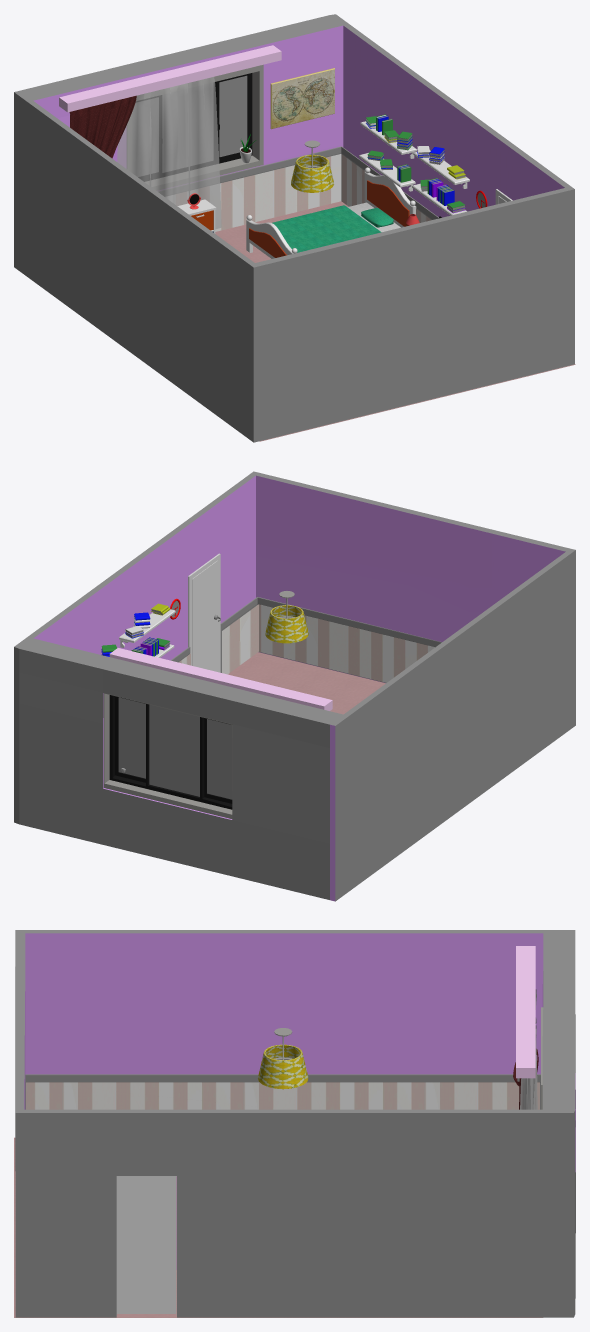
Rendered from Kiz_Odasi_Textured.fbx.
3 views of the same model, one above another, from view 1: azimuth 30°, elevation 25°; view 2: azimuth 150°, elevation 25°; view 3: azimuth 270°, elevation 25° (orthographic). The views are drawn at different scales.
Visible parts, largest first — view 1: Duvar, Plane001, Pencere, Plane002, Kornis, Pencere_Kenar, Tablo, Yatak, Yorgan, PERDE, Duvar_Bordur, Hali (+2 smaller); view 2: Duvar, Pencere, Plane002, Hali, KApi, Kornis, Pencere_Kenar, Duvar_Bordur, Avize; view 3: Duvar, Plane002, KApi, Duvar_Bordur, Kornis, Avize, Hali, Plane001.
Boxes of the visible parts, box(x1,y1,x2,y2) form: Duvar: box(14, 14, 574, 442); Plane001: box(117, 77, 221, 229); Pencere: box(132, 73, 252, 181); Plane002: box(165, 154, 431, 231); Kornis: box(59, 45, 281, 112); Pencere_Kenar: box(127, 64, 263, 190); Tablo: box(270, 68, 334, 129); Yatak: box(246, 167, 416, 258); Yorgan: box(272, 205, 381, 252); PERDE: box(69, 95, 136, 158); Duvar_Bordur: box(158, 146, 438, 219); Hali: box(215, 201, 575, 441); Duvar: box(14, 471, 575, 901); Pencere: box(109, 695, 232, 809); Plane002: box(178, 604, 434, 682); Hali: box(228, 652, 385, 714); KApi: box(188, 553, 220, 672); Kornis: box(109, 648, 332, 710); Pencere_Kenar: box(103, 693, 232, 818); Duvar_Bordur: box(170, 597, 441, 682); Avize: box(265, 591, 308, 643); Duvar: box(15, 930, 575, 1317); Plane002: box(26, 1082, 539, 1109); KApi: box(116, 1176, 176, 1315); Duvar_Bordur: box(25, 1074, 540, 1109); Kornis: box(516, 946, 535, 1078); Avize: box(257, 1028, 308, 1089); Hali: box(14, 1137, 542, 1317); Plane001: box(520, 989, 537, 1109).
Size of the model in its own units: 265 by 138 by 343.
Materials: 42 (10 with a texture image).
